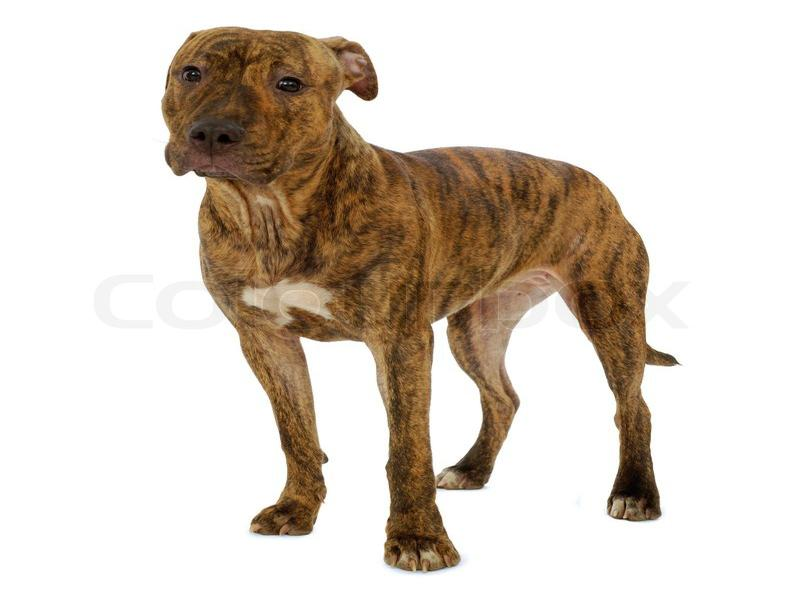dog_stand: (157, 23, 686, 580)
